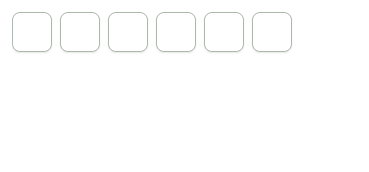
Scenario: OtpInput — alphanumeric mode (BackOffice login) › uppercases pasted content and fills multiple boxes from a single paste
Click the field named "Digit 1 of 6" at (32, 32), box [12,12,52,52]
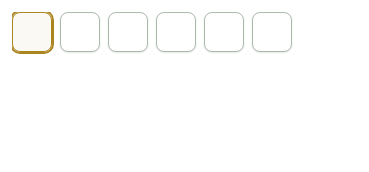
Type keys "abcdef"
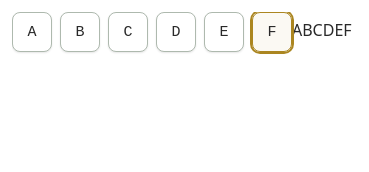
Expected: the text with test id "current-value" reads "ABCDEF", [292,18,352,40]
